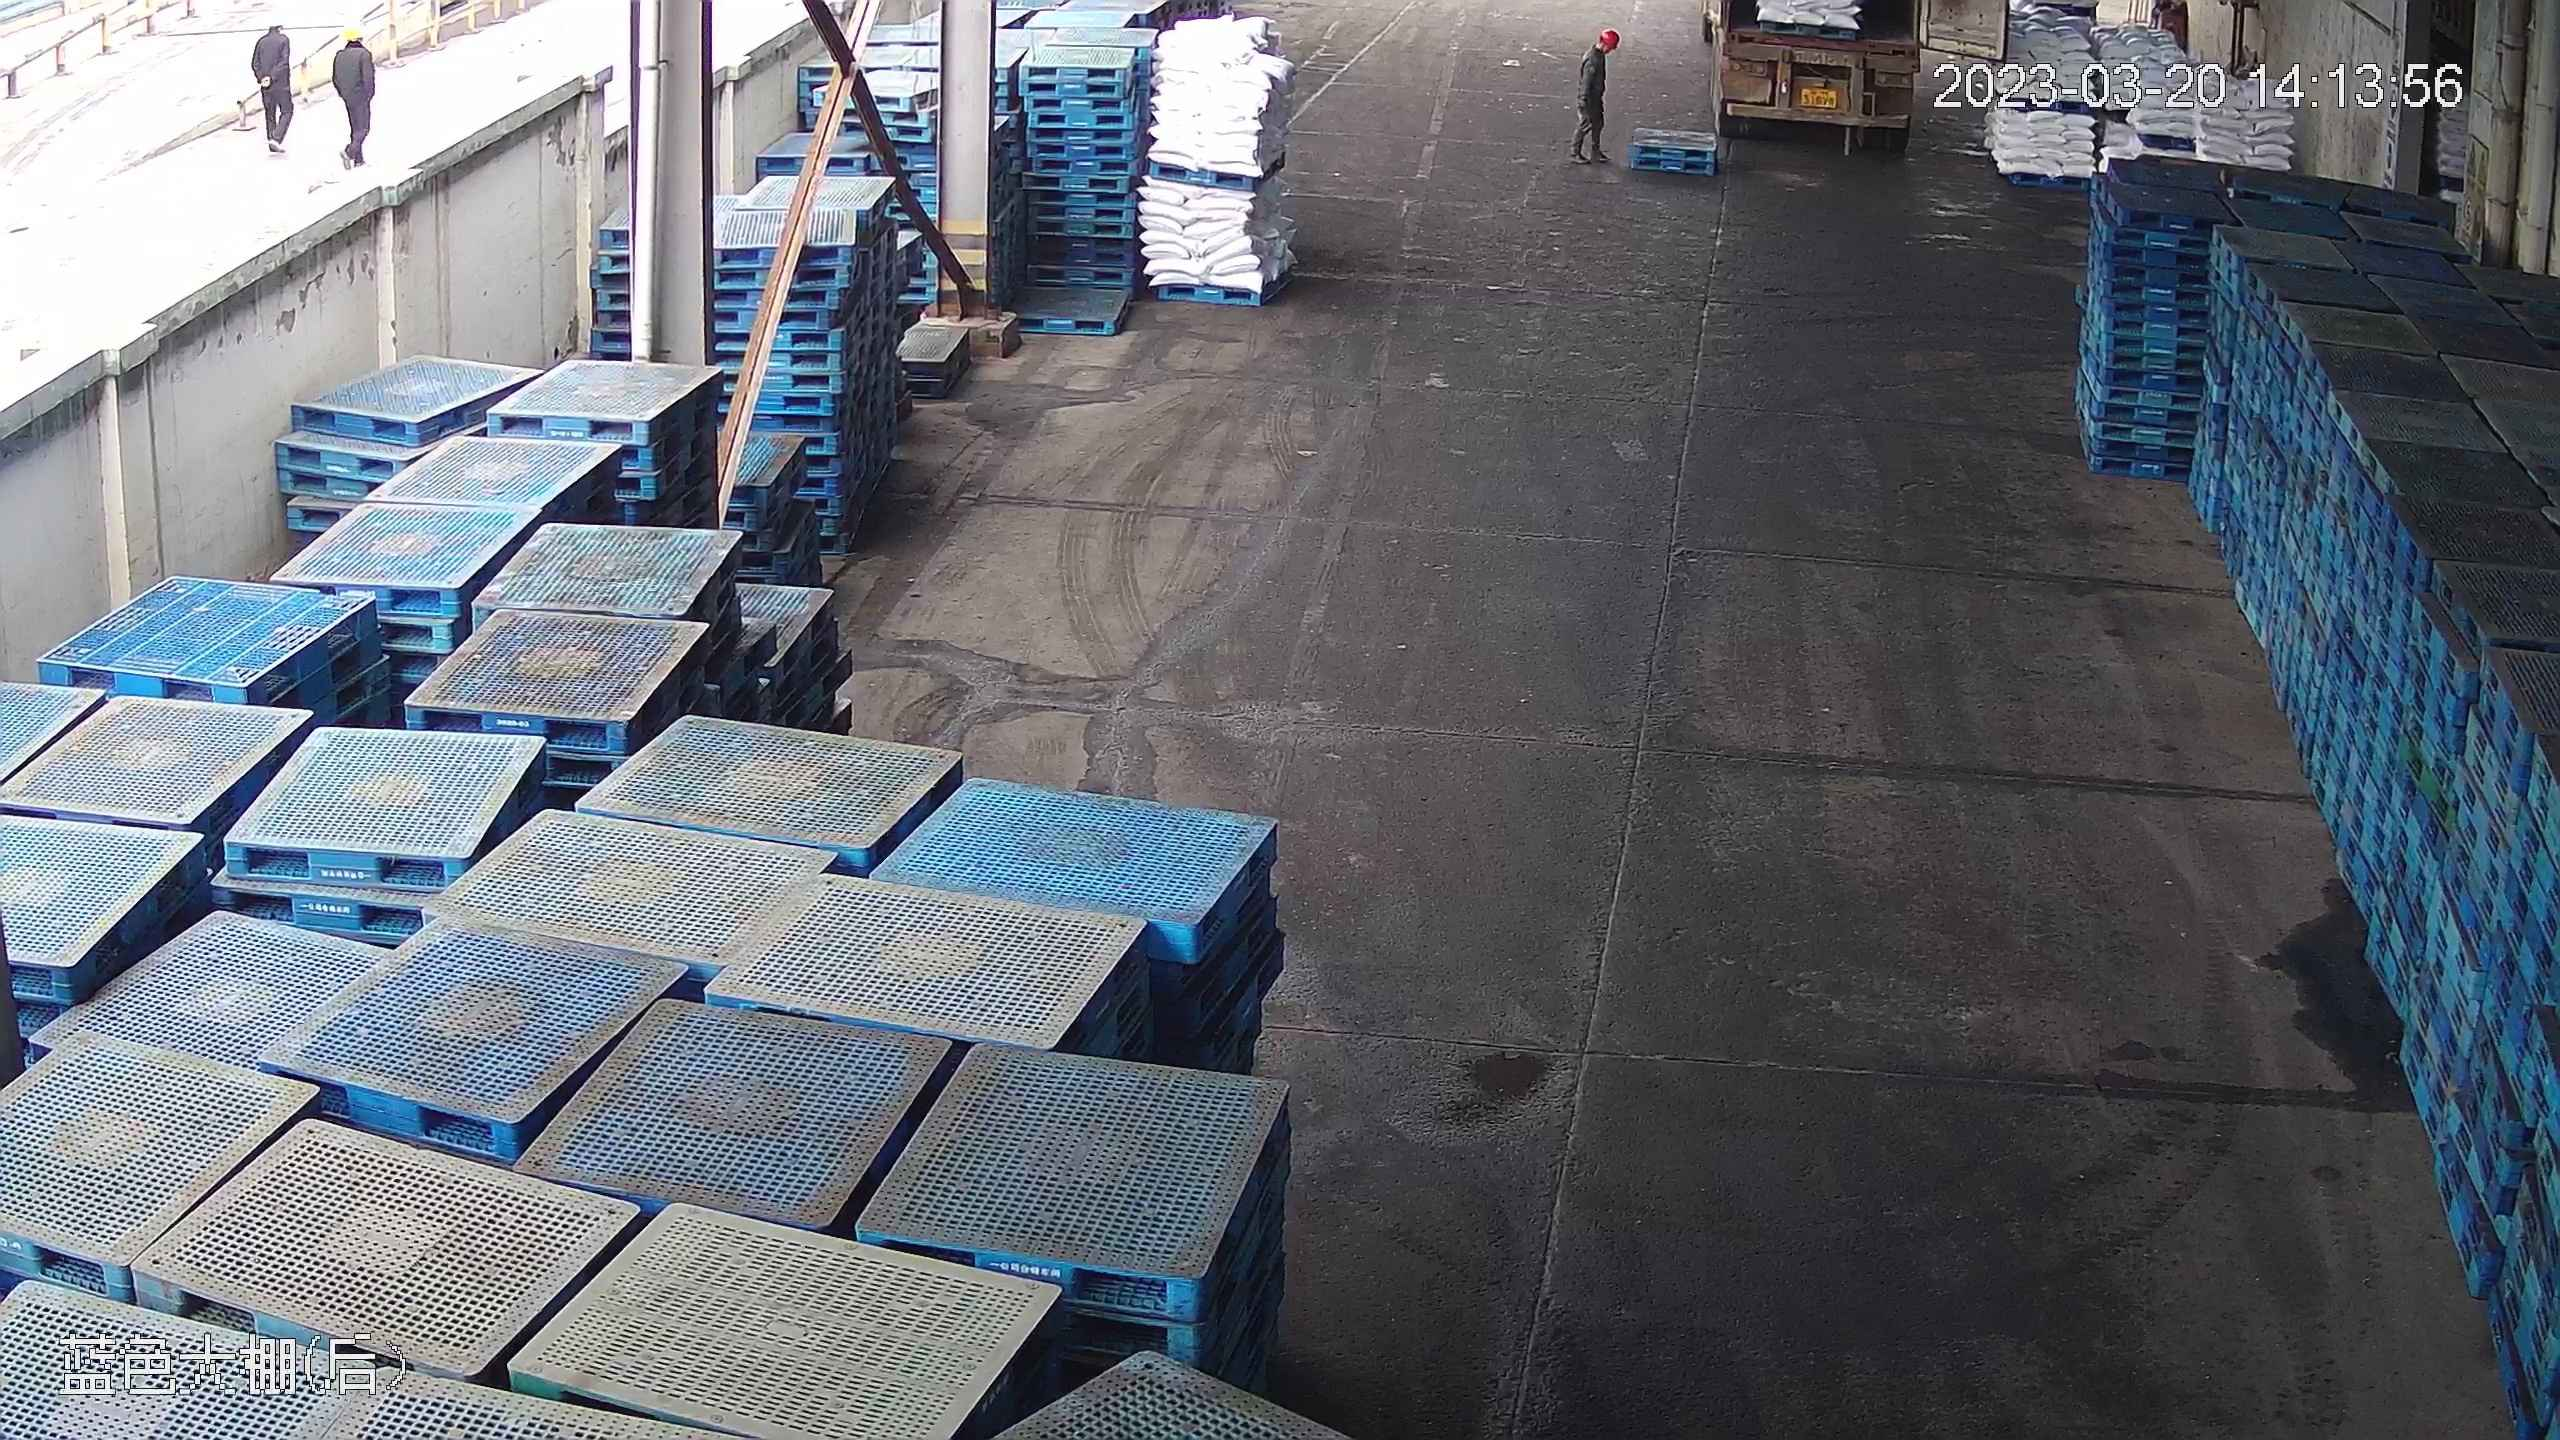head: (1582, 25, 1621, 73)
helmet: (1599, 26, 1619, 52)
people: (248, 20, 306, 164), (328, 19, 381, 167), (1576, 23, 1621, 173)
truck: (1696, 1, 1931, 140)
